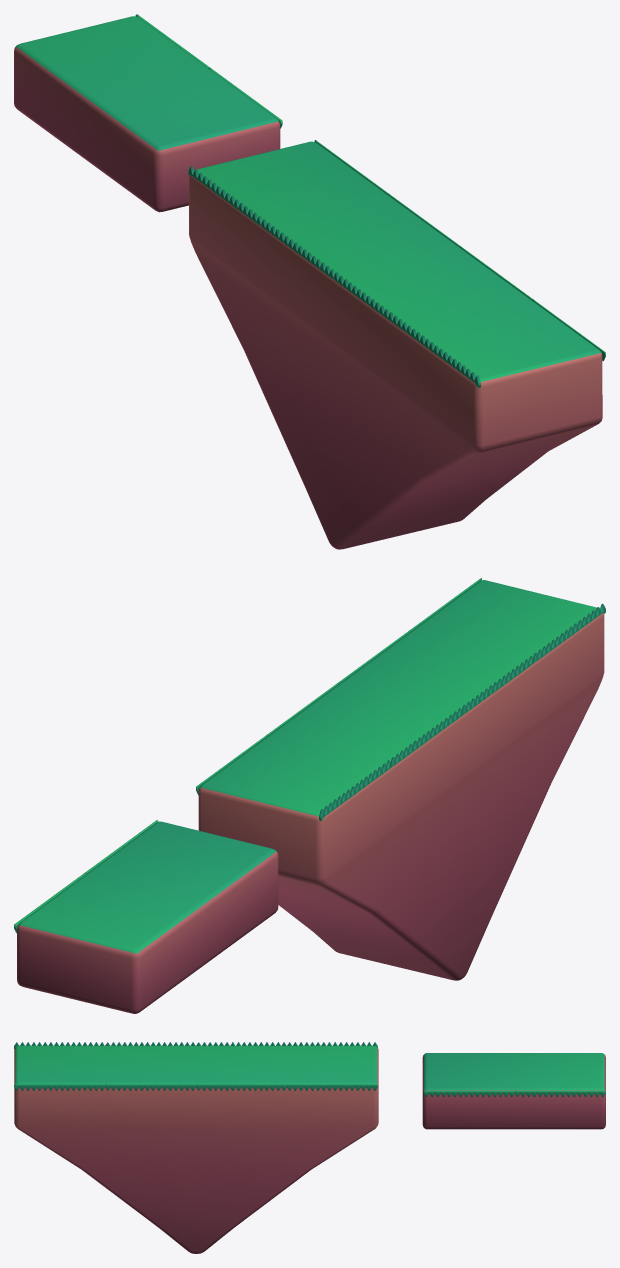
Rendered from ggj_platforms.fbx.
The picture shows the model from 3 angles, top to bottom: view 1: azimuth 30°, elevation 25°; view 2: azimuth 150°, elevation 25°; view 3: azimuth 270°, elevation 25°; orthographic projection. The views are drawn at different scales.
Visible parts, largest first — view 1: Platform_A, Platform_B, Grassplane.002, Grassplane; view 2: Platform_A, Platform_B, Grassplane.002, Grassplane; view 3: Platform_A, Platform_B, Grassplane, Grassplane.001, Grassplane.002.
Part boxes in pixels (<box>): Platform_A: <box>189,141,602,549</box>; Platform_B: <box>14,16,280,212</box>; Grassplane.002: <box>188,166,480,387</box>; Grassplane: <box>314,140,605,361</box>; Platform_A: <box>198,580,604,980</box>; Platform_B: <box>17,821,278,1013</box>; Grassplane.002: <box>319,603,605,821</box>; Grassplane: <box>196,578,481,795</box>; Platform_A: <box>14,1046,378,1253</box>; Platform_B: <box>422,1053,605,1129</box>; Grassplane: <box>14,1084,377,1090</box>; Grassplane.001: <box>423,1090,605,1097</box>; Grassplane.002: <box>14,1042,377,1048</box>.
Bounding box in the file's own units: 2.11 × 4.23 × 12.99.
Materials: 1 (1 with a texture image).
